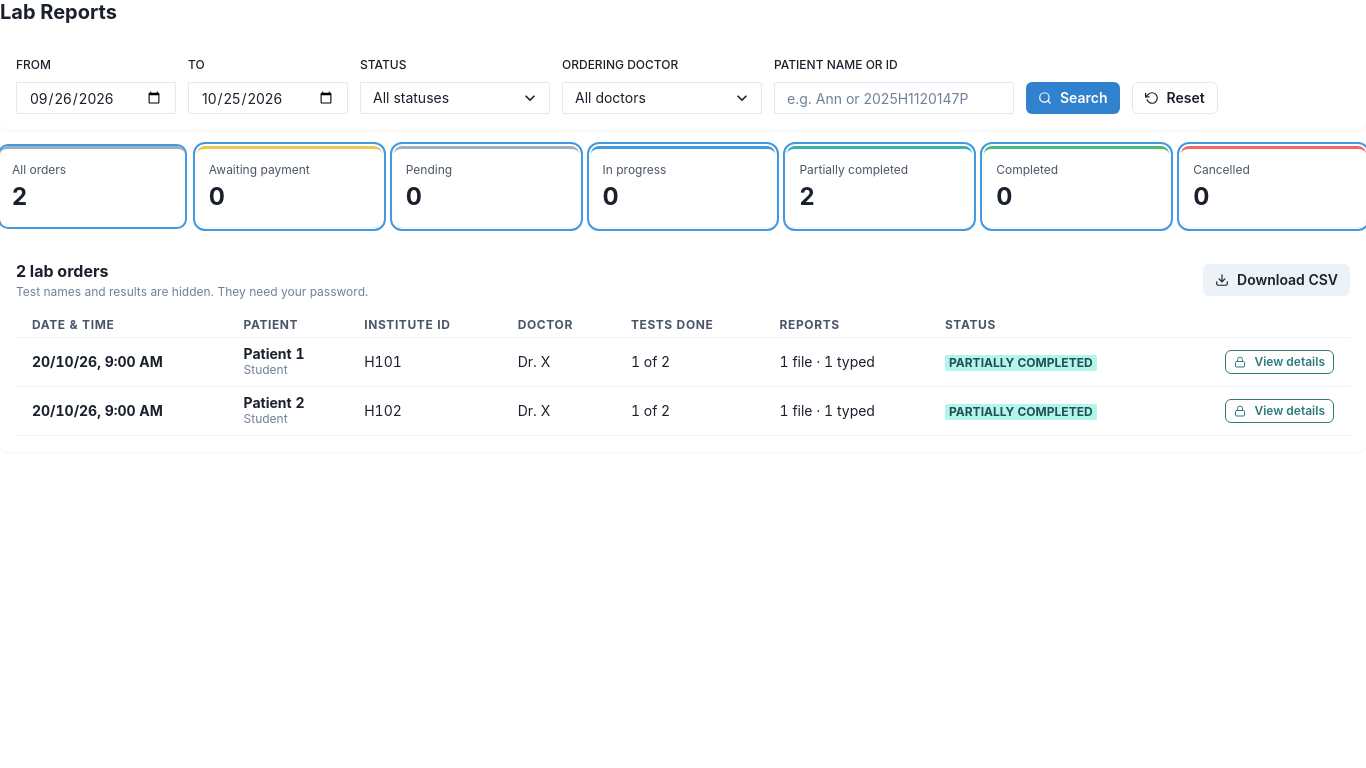
Test case: Admin Reports - password-protected results › before the password › asks for a password before sending one
Expected: the text "Patient 1" is shown, [244,345,304,362]
Click the button "View details" in the row of "Patient 1".
click(1280, 362)  # box [1226,350,1334,374]
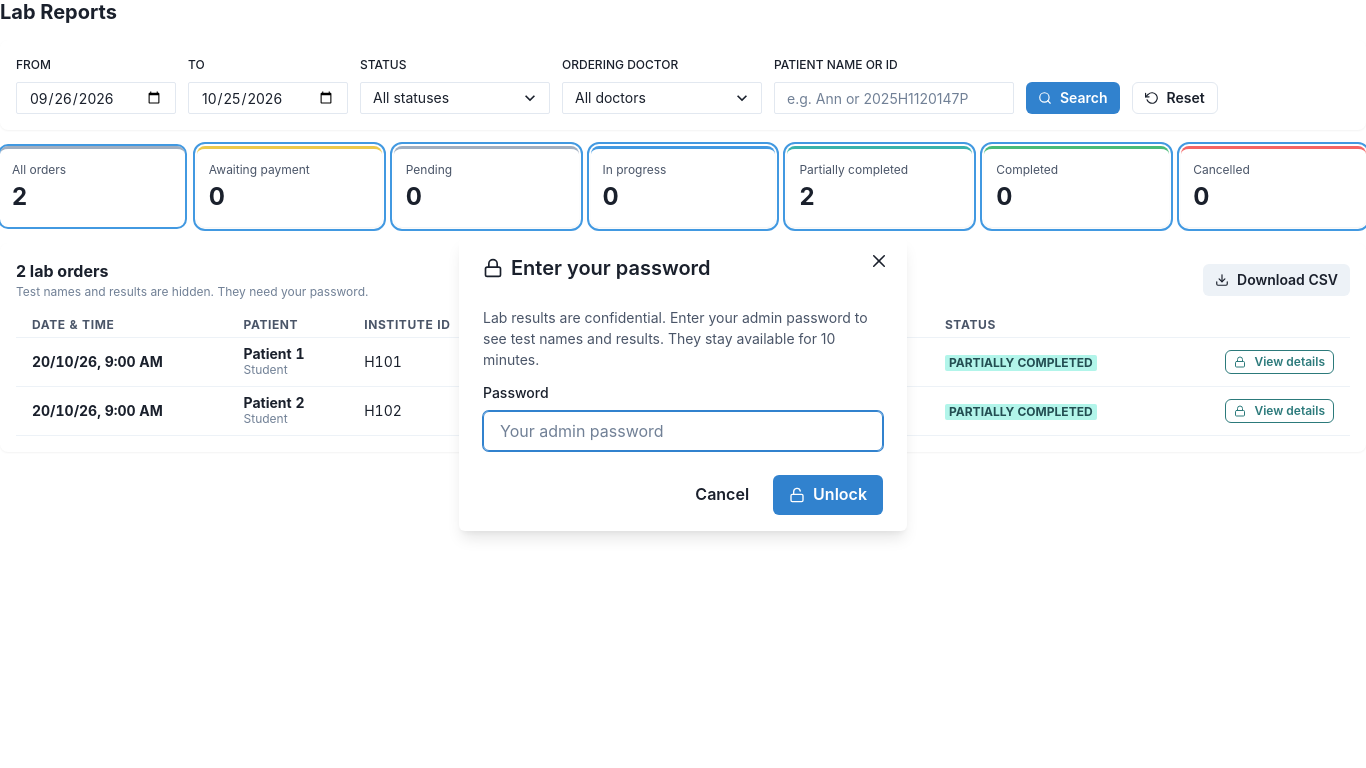
Result: the text "Enter your password" is shown at [483,256,711,280]
Click the button "Unlock".
click(828, 495)  # box [773,475,883,515]
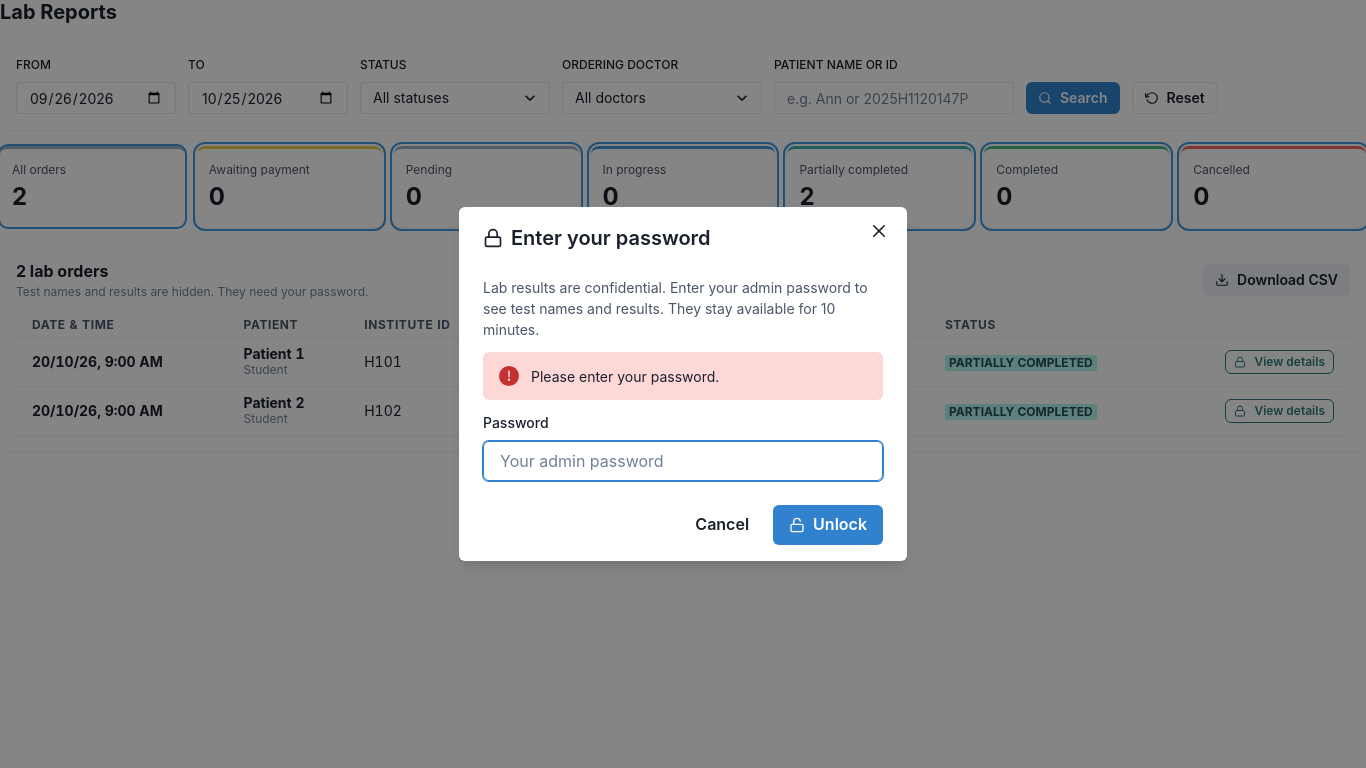
Result: the text "Please enter your password." is shown at [483,352,883,400]
